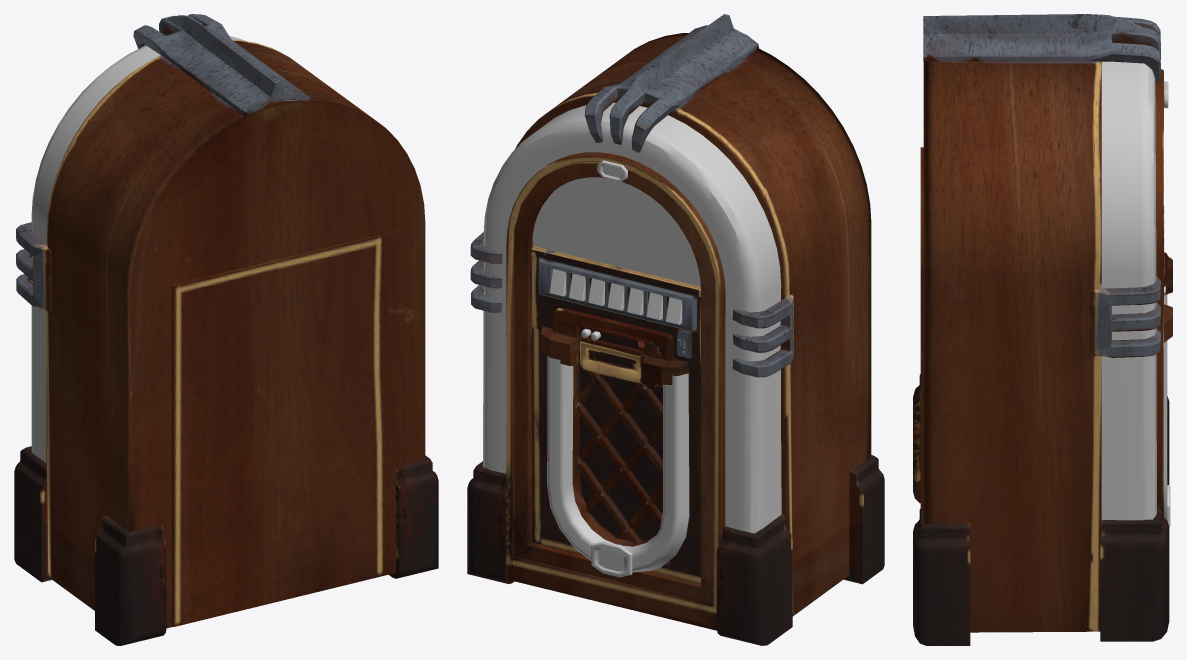
File: jukebox5.fbx
3 renders of one model, left to right at view 1: azimuth 30°, elevation 25°; view 2: azimuth 150°, elevation 25°; view 3: azimuth 270°, elevation 25°, orthographic. The views are drawn at different scales.
Visible parts, largest first — view 1: cabinet, foot6, casing_grip1, jukebox_modellingunwrapped:jukebox_modelling:light_casing, foot7, foot4, casing_grip2; view 2: cabinet, jukebox_modellingunwrapped:jukebox_modelling:light_casing, shelf_and_face, jukebox_modellingunwrapped:jukebox_modelling:glass_cabinet, jukebox_modellingunwrapped:jukebox_modelling:light_casing_2, casing_grip1, foot4, face_panel, faceplate, speaker_lattice, foot5, foot6 (+5 smaller); view 3: cabinet, jukebox_modellingunwrapped:jukebox_modelling:light_casing, casing_grip1, foot5, foot7, casing_grip, foot6, jukebox_modellingunwrapped:jukebox_modelling:light_casing_2, face_panel.
Part boxes in pixels (x1,y1,x2,y2): cabinet: [46, 40, 425, 628]; foot6: [95, 515, 166, 645]; casing_grip1: [133, 14, 310, 117]; jukebox_modellingunwrapped:jukebox_modelling:light_casing: [31, 36, 246, 462]; foot7: [389, 455, 438, 578]; foot4: [14, 446, 51, 582]; casing_grip2: [16, 222, 51, 311]; cabinet: [506, 33, 871, 630]; jukebox_modellingunwrapped:jukebox_modelling:light_casing: [483, 102, 781, 533]; shelf_and_face: [532, 239, 700, 583]; jukebox_modellingunwrapped:jukebox_modelling:glass_cabinet: [532, 177, 700, 286]; jukebox_modellingunwrapped:jukebox_modelling:light_casing_2: [547, 356, 689, 572]; casing_grip1: [584, 14, 758, 152]; foot4: [716, 514, 792, 645]; face_panel: [541, 307, 689, 386]; faceplate: [530, 244, 700, 546]; speaker_lattice: [577, 371, 662, 543]; foot5: [467, 461, 514, 583]; foot6: [844, 455, 884, 584]; cabinet: [920, 61, 1163, 632]; jukebox_modellingunwrapped:jukebox_modelling:light_casing: [1101, 61, 1156, 520]; casing_grip1: [923, 14, 1160, 85]; foot5: [1100, 504, 1169, 641]; foot7: [913, 509, 970, 645]; casing_grip: [1089, 276, 1160, 357]; foot6: [913, 374, 920, 503]; jukebox_modellingunwrapped:jukebox_modelling:light_casing_2: [1164, 294, 1167, 519]; face_panel: [1164, 252, 1172, 342].
Size of the model in its own units: 250 by 391 by 168.
